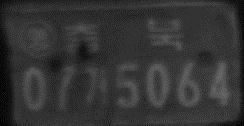0: (19, 65, 48, 114), (144, 61, 172, 110)
4: (206, 60, 234, 109)
5: (114, 61, 141, 111)
6: (174, 60, 201, 110)
7: (50, 62, 77, 113)
거: (79, 62, 111, 110)
영: (18, 19, 59, 60)
충북_D: (64, 18, 183, 59)
